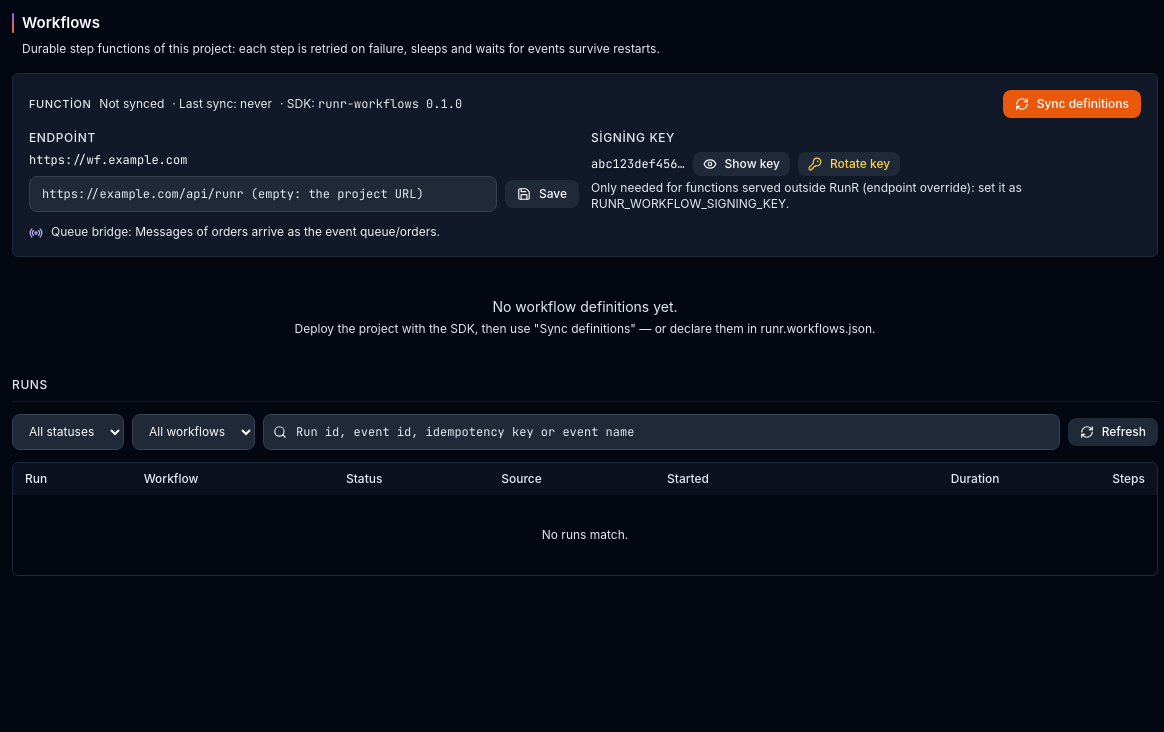
Test: WorkflowsTab › shows sync errors
Click the button with test id "sync-button" at (1072,104), box [1003,90,1141,118]
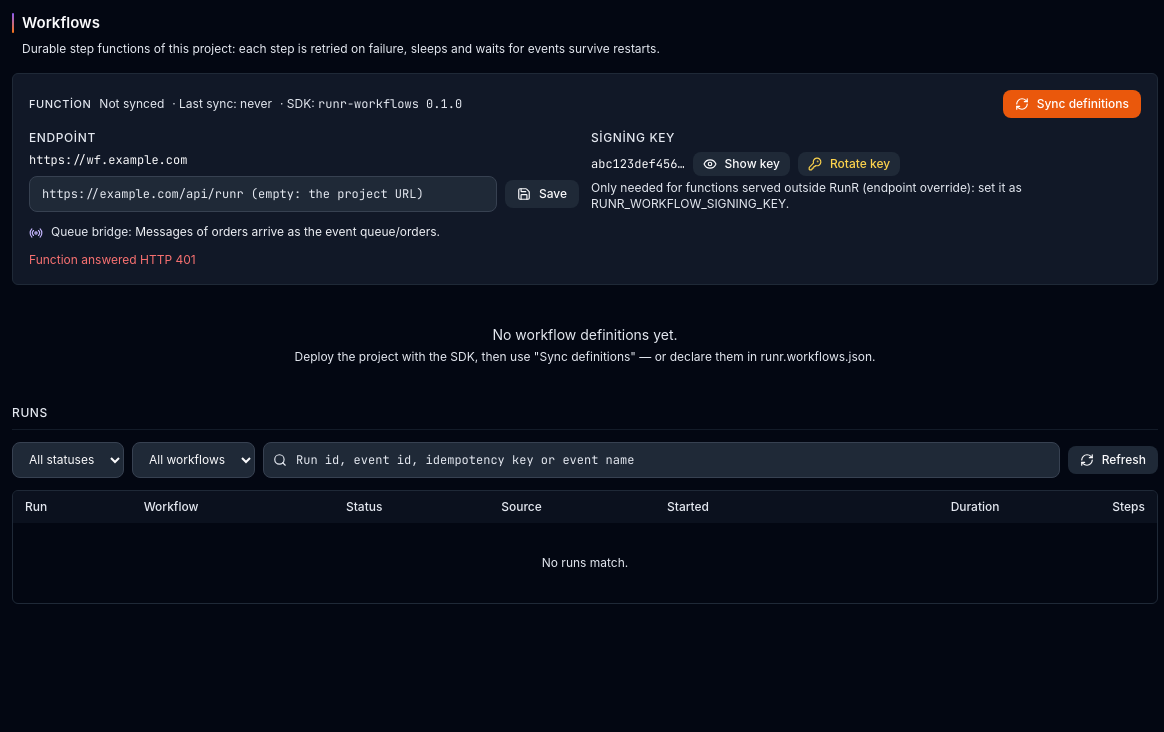
Expected: the text with test id "app-error" shows "HTTP 401", [29,252,196,266]
